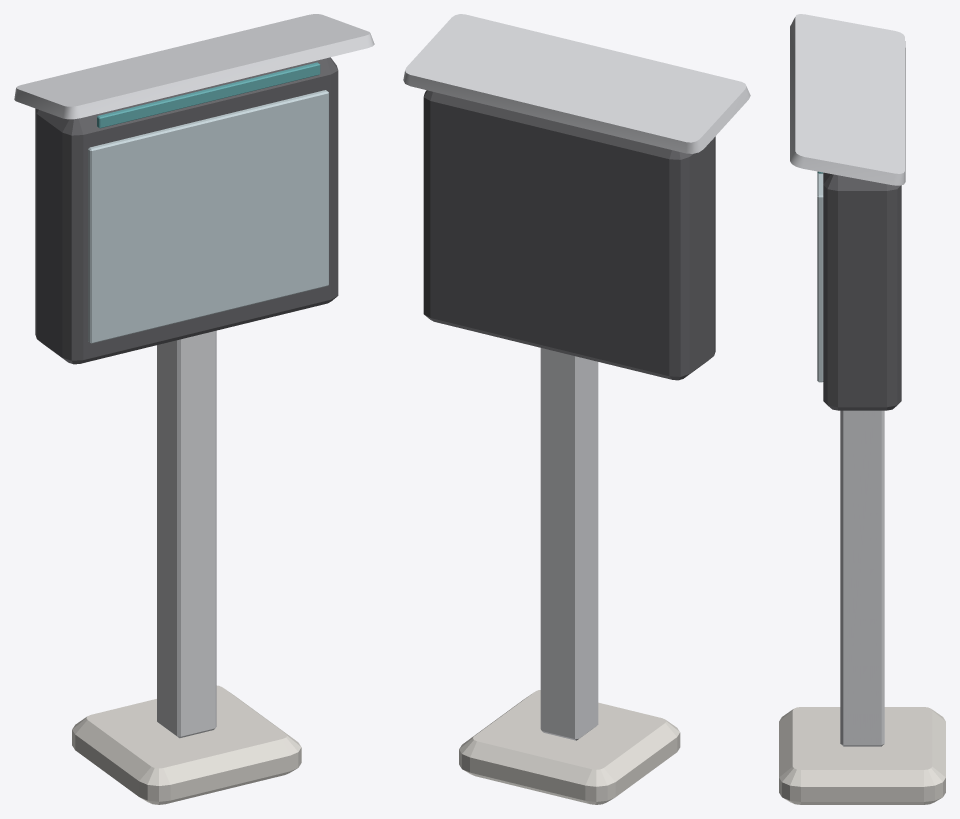
File: fast-food-and-drive-thru-order-confirm-screen-post-de729791__16193.glb
3 renders of one model, left to right at view 1: azimuth 30°, elevation 25°; view 2: azimuth 150°, elevation 25°; view 3: azimuth 270°, elevation 25°, orthographic. The views are drawn at different scales.
Visible parts, largest first — view 1: order-confirm-screen-post; view 2: order-confirm-screen-post; view 3: order-confirm-screen-post.
Part boxes in pixels (box(x1,y1,x2,y2)): order-confirm-screen-post: box(14, 14, 374, 804); order-confirm-screen-post: box(403, 14, 750, 804); order-confirm-screen-post: box(779, 14, 945, 804).
Bounding box in the file's own units: 0.6999 × 1.55 × 0.34.
